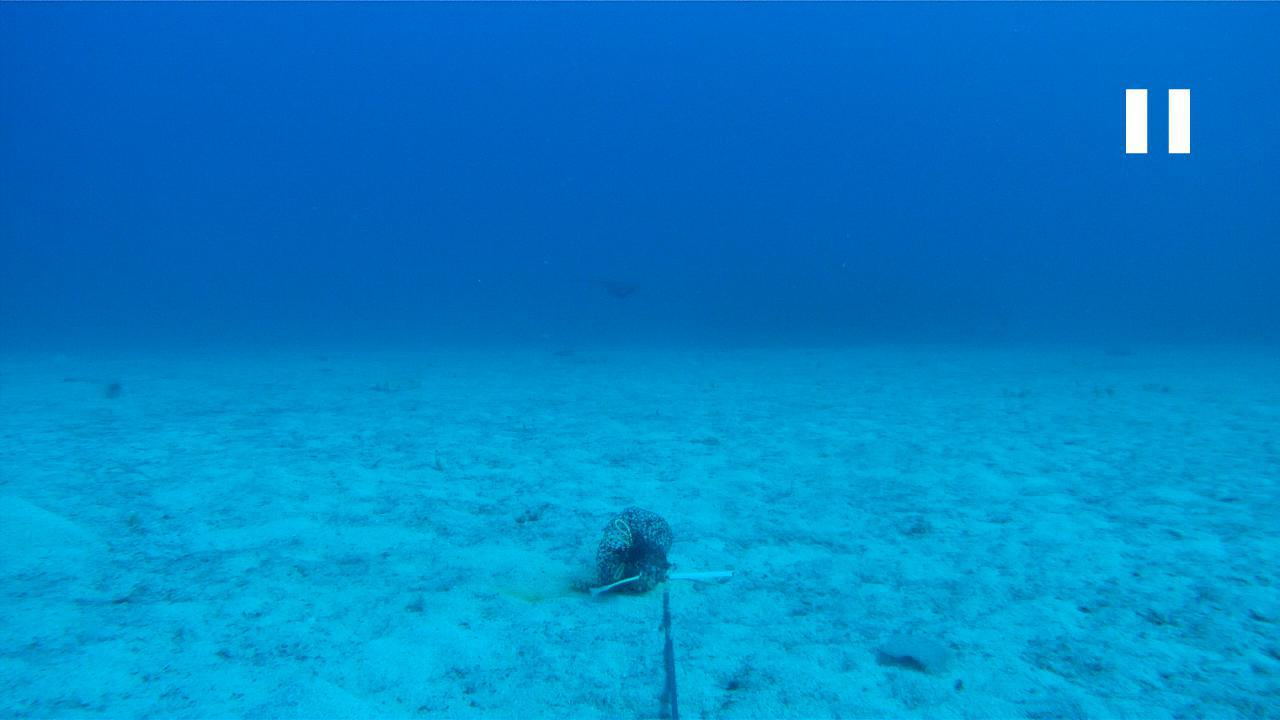bothus: (877, 624, 952, 678)
